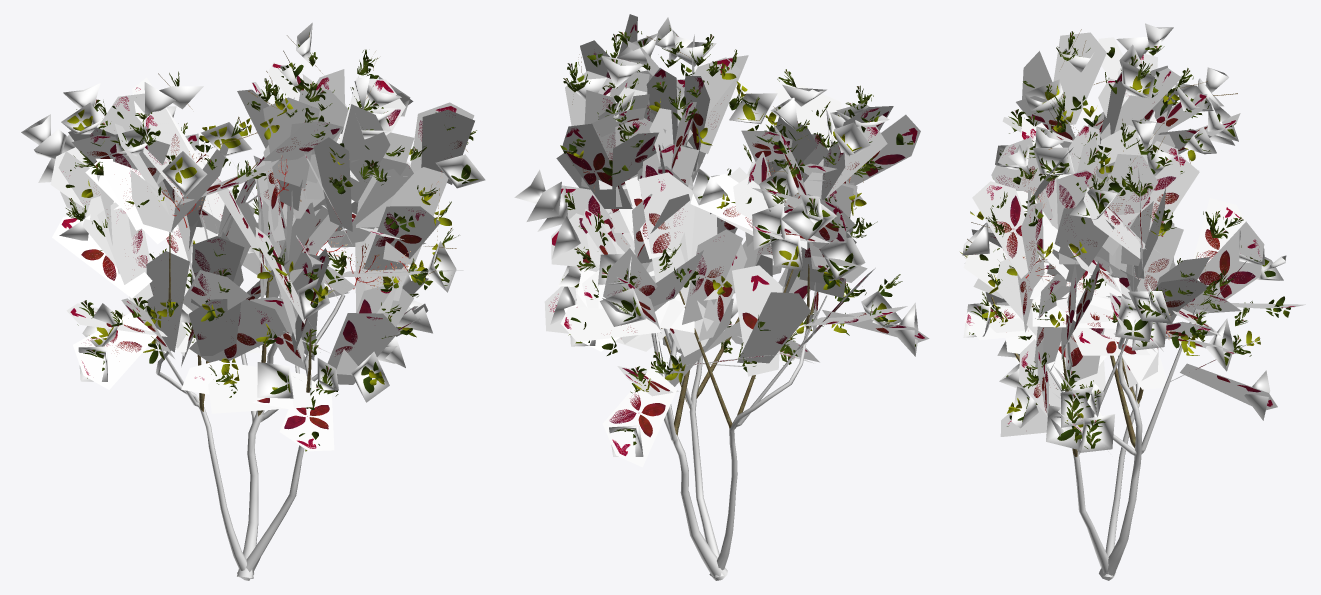
File: photontia2.glb
3 views of the same model, side by side, from view 1: azimuth 30°, elevation 25°; view 2: azimuth 150°, elevation 25°; view 3: azimuth 270°, elevation 25° (orthographic). The views are drawn at different scales.
Parts seen in each view (by area): view 1: photontia2; view 2: photontia2; view 3: photontia2.
Boxes of the visible parts, bbox=[...] form: photontia2: bbox=[21, 22, 485, 580]; photontia2: bbox=[514, 14, 929, 580]; photontia2: bbox=[960, 23, 1305, 580].
Bounding box in the file's own units: 1.95 × 2.66 × 1.65.
3 materials, 2 textured.
